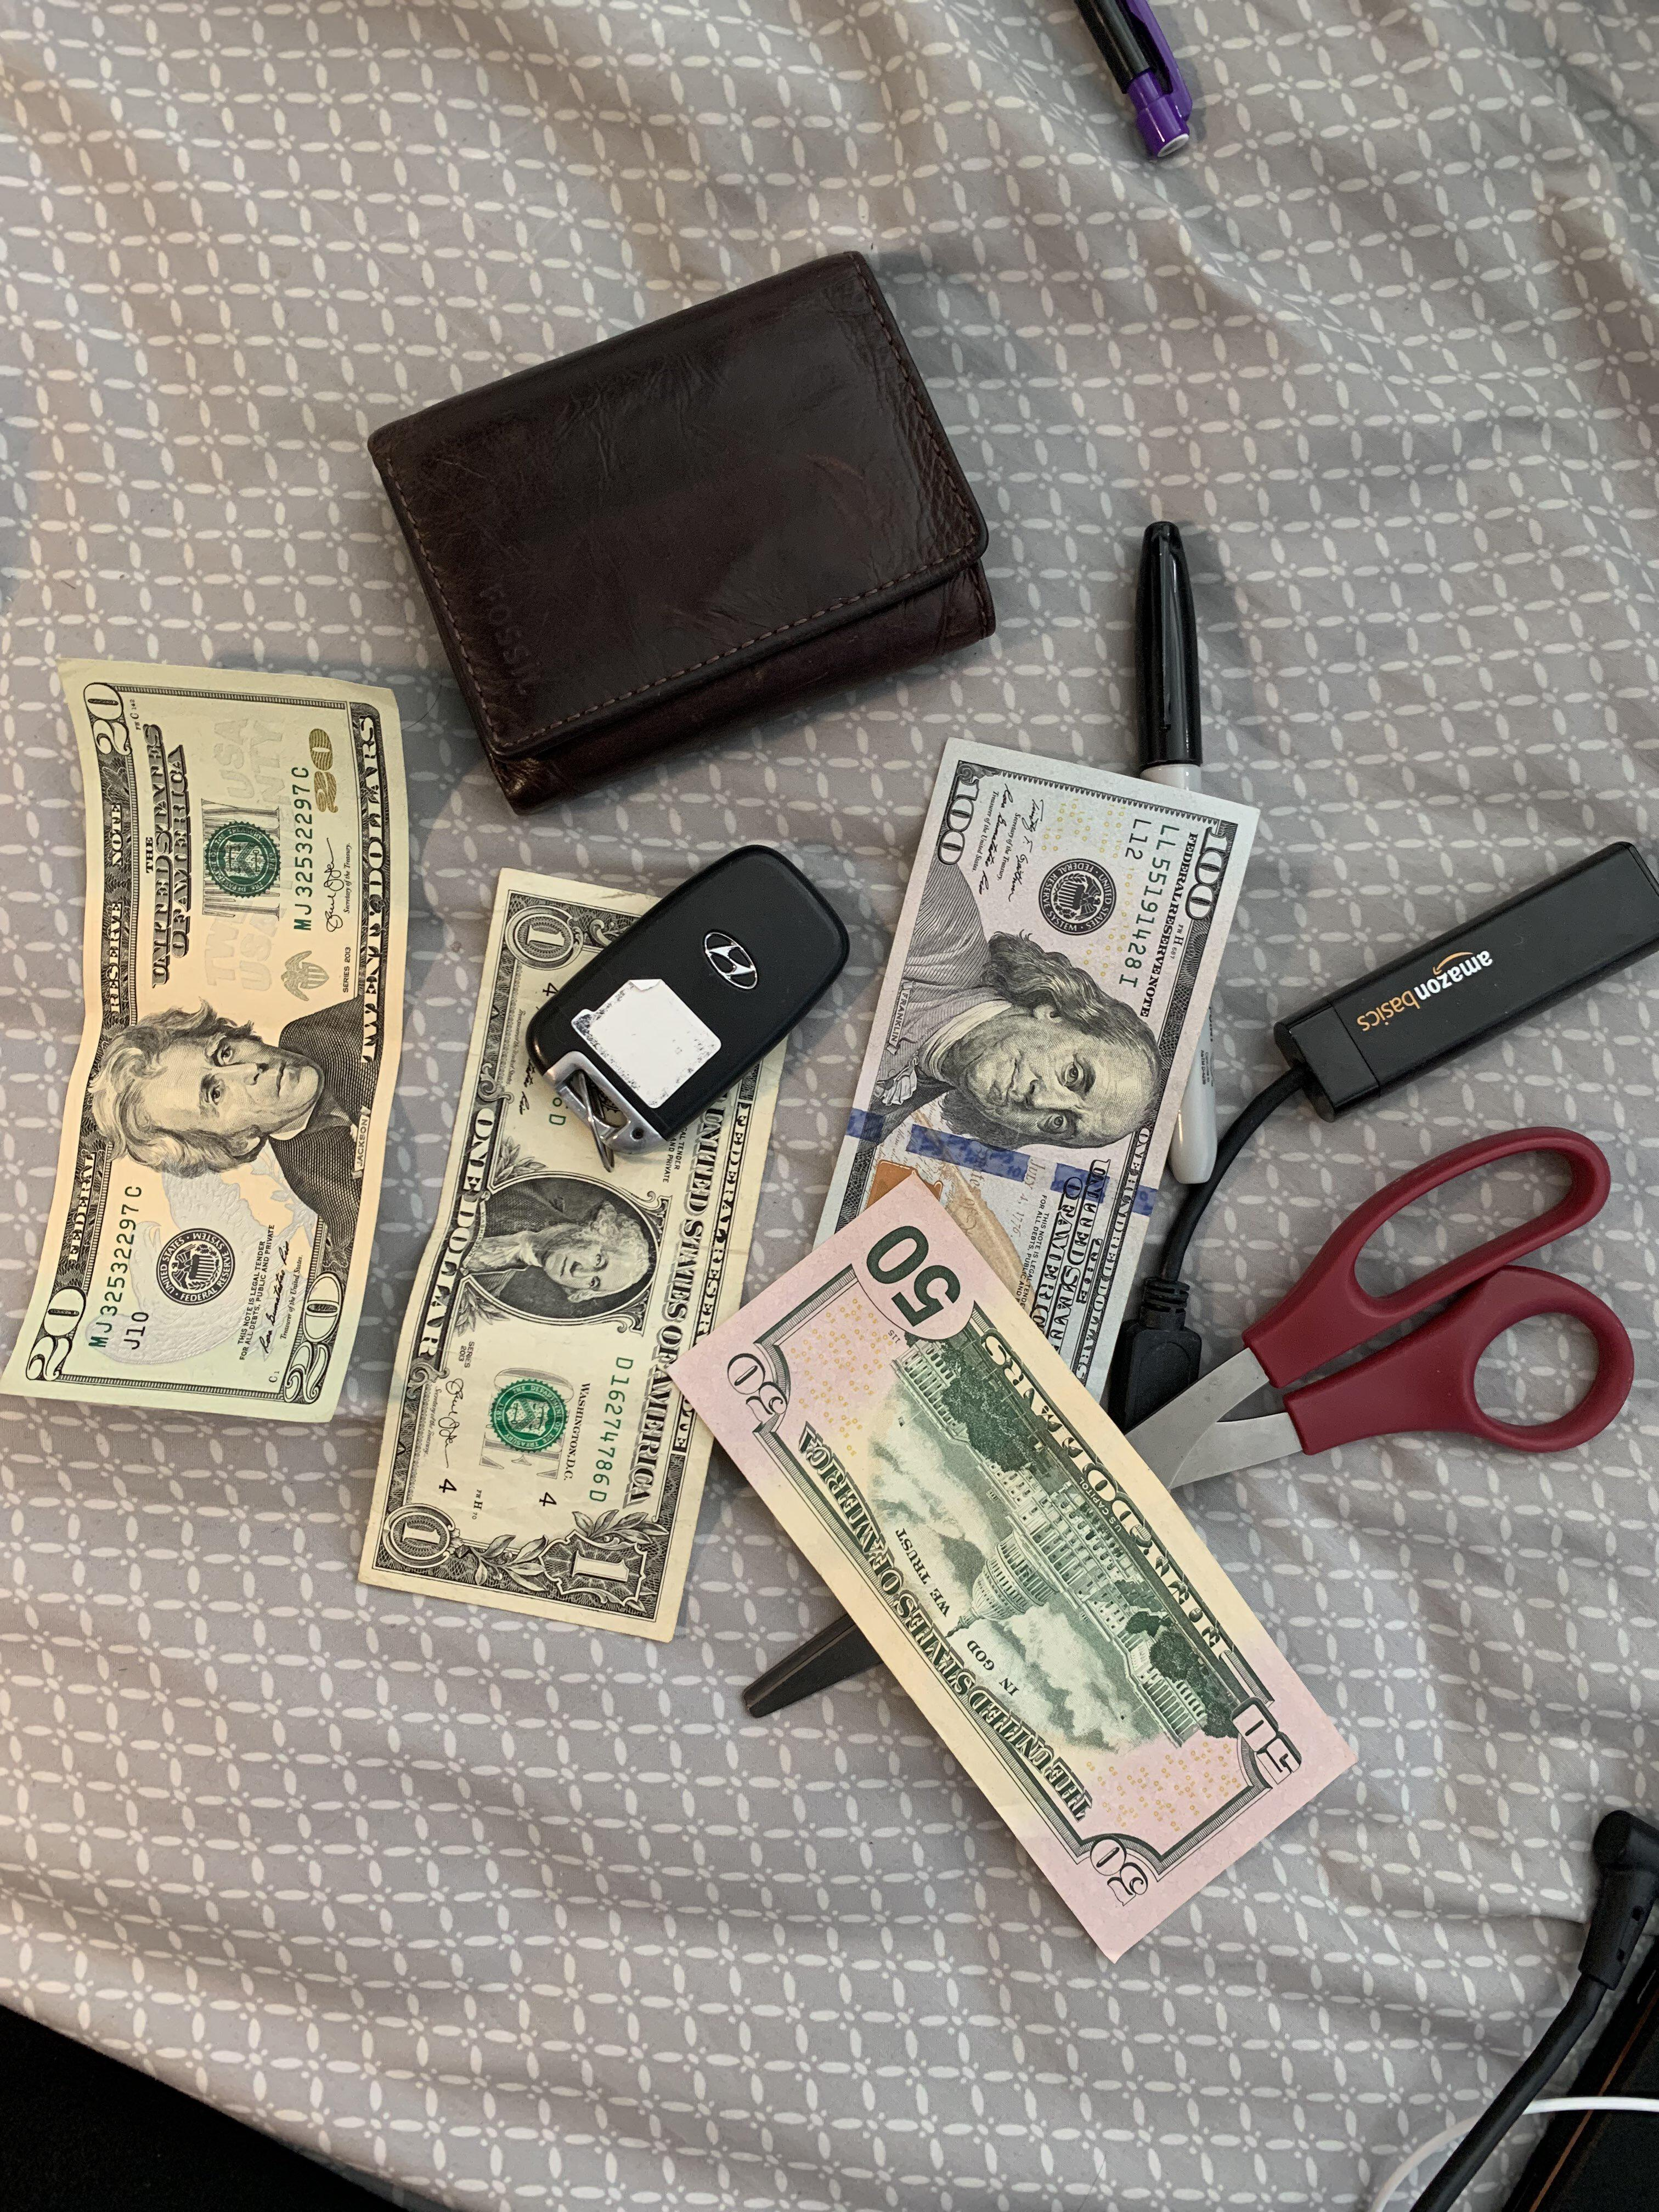FiftyBill: (657, 1169, 1403, 1979)
HundredBill: (786, 709, 1297, 1404)
OneBill: (312, 860, 840, 1651)
TwentyBill: (2, 608, 437, 1463)
